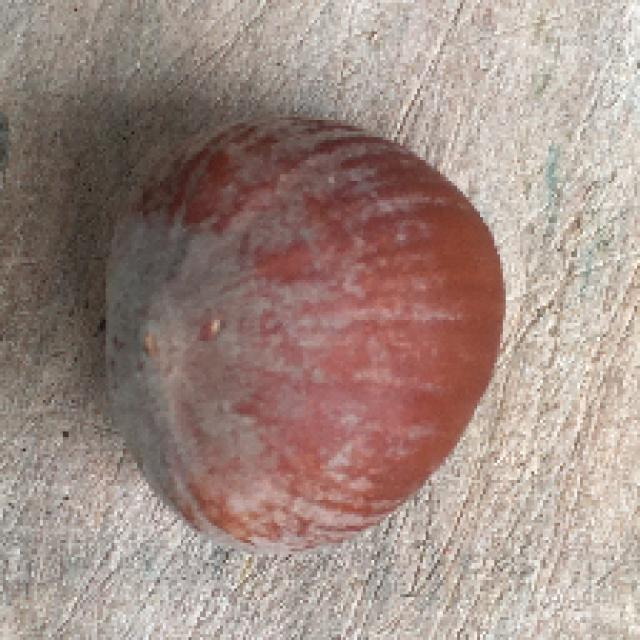QualityHazelnut: (107, 108, 505, 564)
